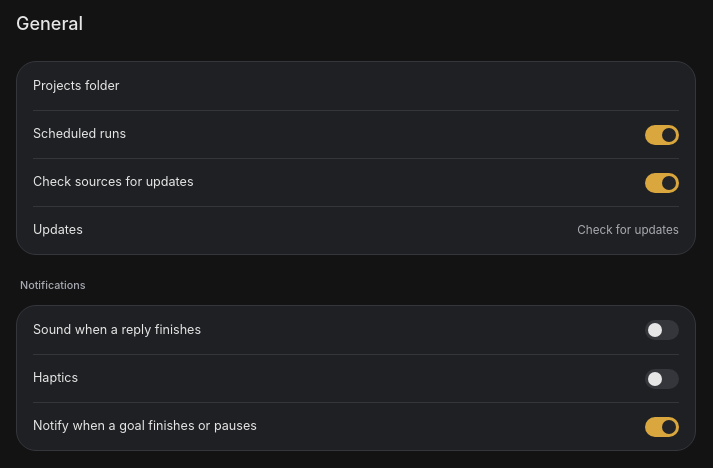
Test case: Settings › General › Notifications › saves the switch off without asking for permission
This screenshot has width=713, height=468.
Click the checkbox labelled "Notify when a goal finishes or pauses": [662, 426] box 645,416 -> 679,436
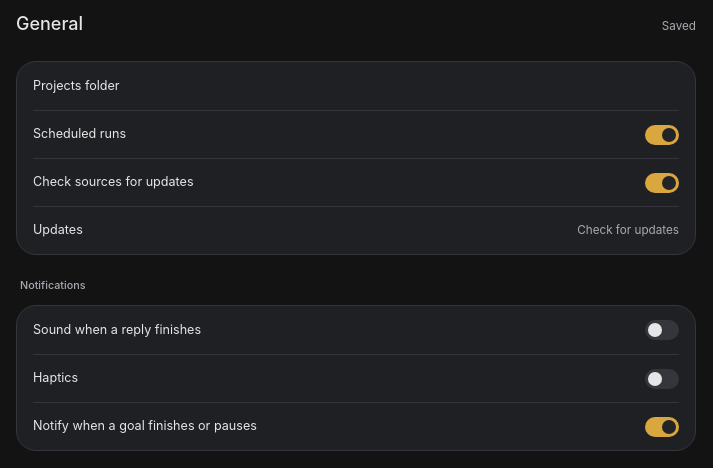
Expected: the message reads "Saved", 662,19 -> 696,33
